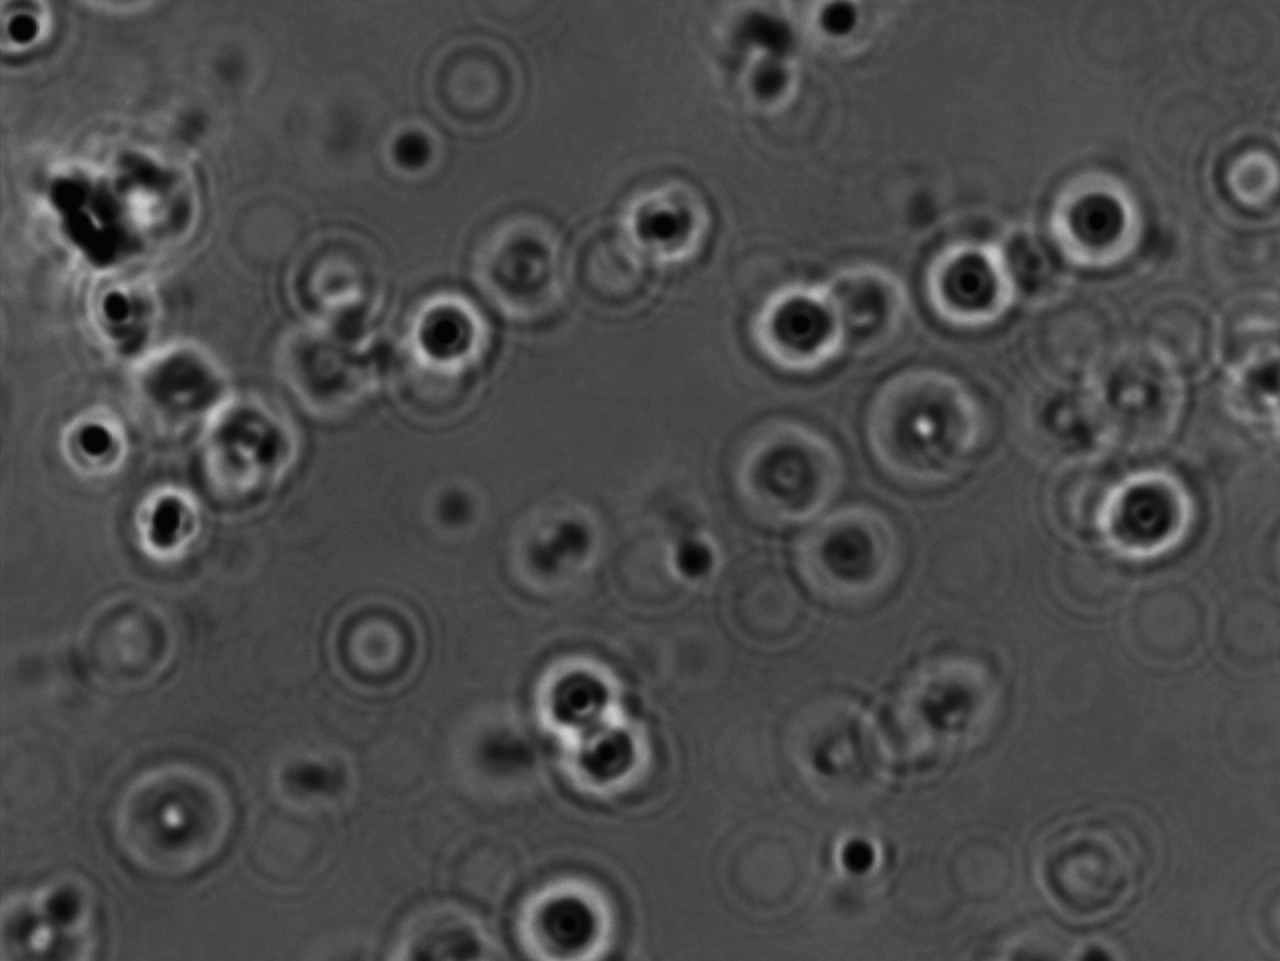depth:-16: (1026, 156, 1156, 298), (1076, 456, 1215, 583), (899, 219, 1029, 345), (387, 282, 514, 399), (540, 700, 664, 818), (115, 470, 230, 593), (738, 270, 855, 389), (510, 636, 632, 750), (497, 865, 639, 961)
